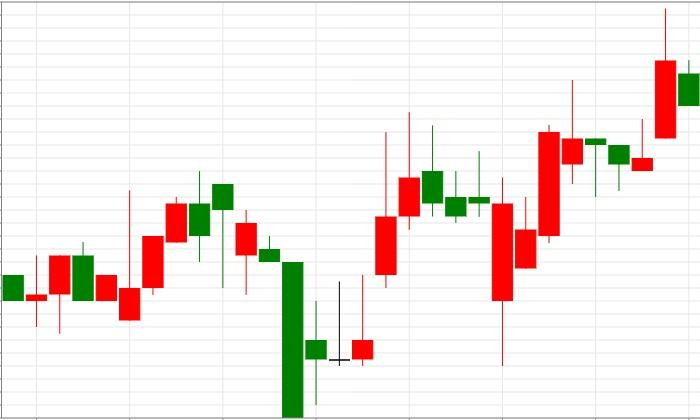hanging_man_fall: (119, 170, 234, 320)
inverse_hammer_rise: (561, 81, 654, 197)
